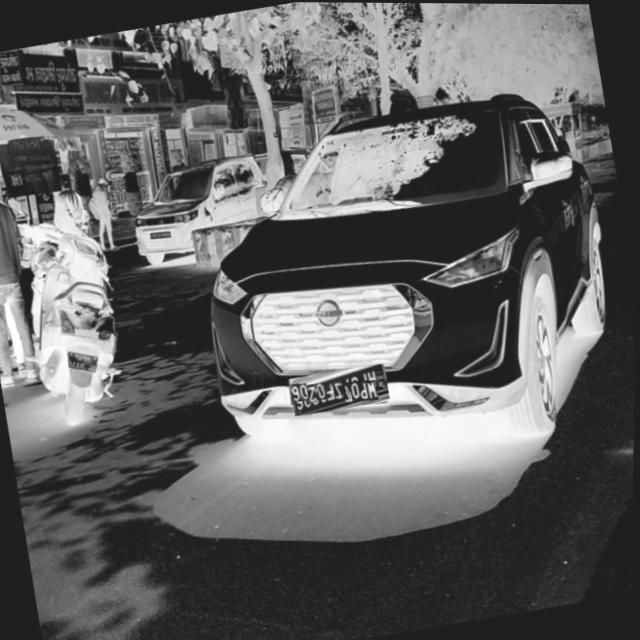0: (350, 380, 361, 399), (316, 381, 326, 399), (300, 382, 309, 400)
2: (307, 383, 317, 402)
6: (292, 383, 302, 402)
7: (343, 381, 353, 402)
F: (324, 381, 335, 400)
IND: (375, 377, 386, 393)
Indian_registered: (293, 364, 388, 415)
M: (367, 379, 379, 400)
P: (358, 379, 371, 400)
Z: (333, 380, 344, 400)
